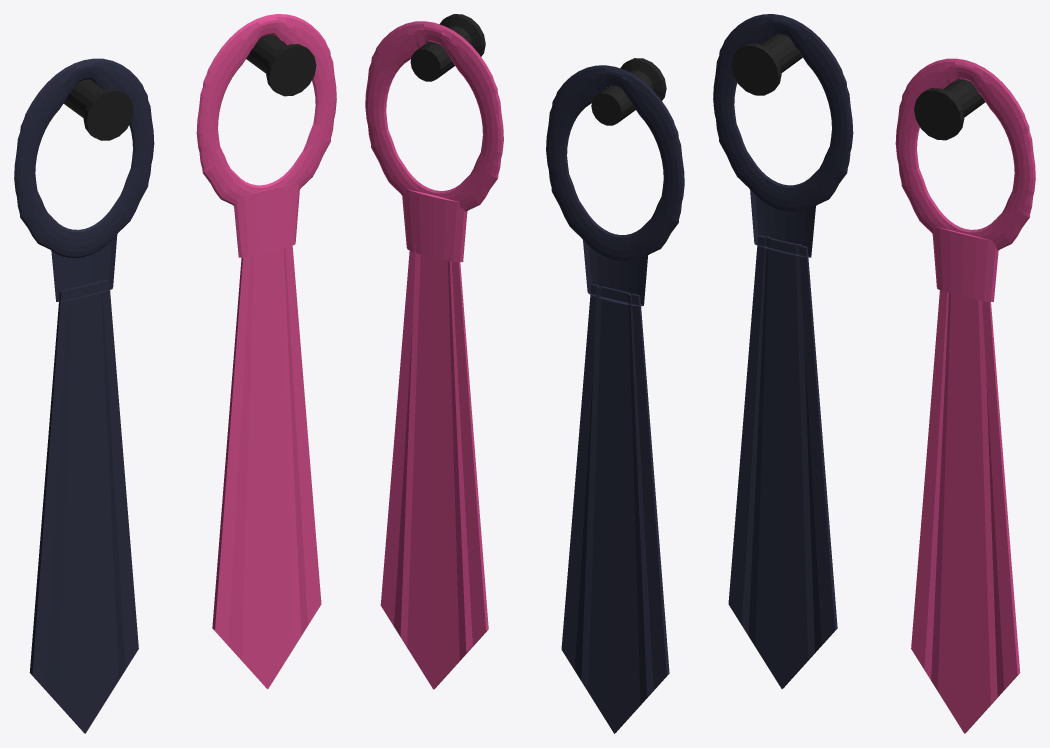
Rendered from Ties.fbx.
3 views of the same model, side by side, from view 1: azimuth 30°, elevation 25°; view 2: azimuth 150°, elevation 25°; view 3: azimuth 330°, elevation 25° (orthographic).
Parts seen in each view (by area): view 1: Tie - Black, Tie - Pink, Hook Black, Hook Pink; view 2: Tie - Black, Tie - Pink, Hook Black, Hook Pink; view 3: Tie - Pink, Tie - Black, Hook Black, Hook Pink.
Boxes of the visible parts, <box> form: Tie - Black: <box>14,58,154,733</box>; Tie - Pink: <box>196,14,336,688</box>; Hook Black: <box>63,79,133,140</box>; Hook Pink: <box>246,34,316,96</box>; Tie - Black: <box>546,65,684,733</box>; Tie - Pink: <box>365,21,503,689</box>; Hook Black: <box>591,58,666,125</box>; Hook Pink: <box>410,14,485,81</box>; Tie - Pink: <box>895,58,1035,733</box>; Tie - Black: <box>713,14,853,688</box>; Hook Black: <box>731,34,802,95</box>; Hook Pink: <box>914,79,985,140</box>.
Size of the model in its own units: 31.79 by 63.33 by 6.35.
